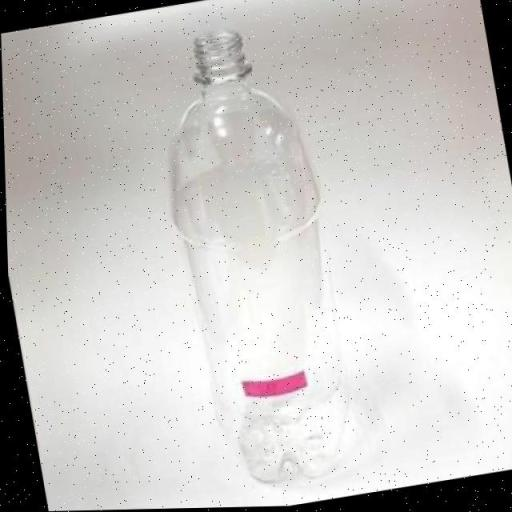plastic: (138, 16, 368, 506)
